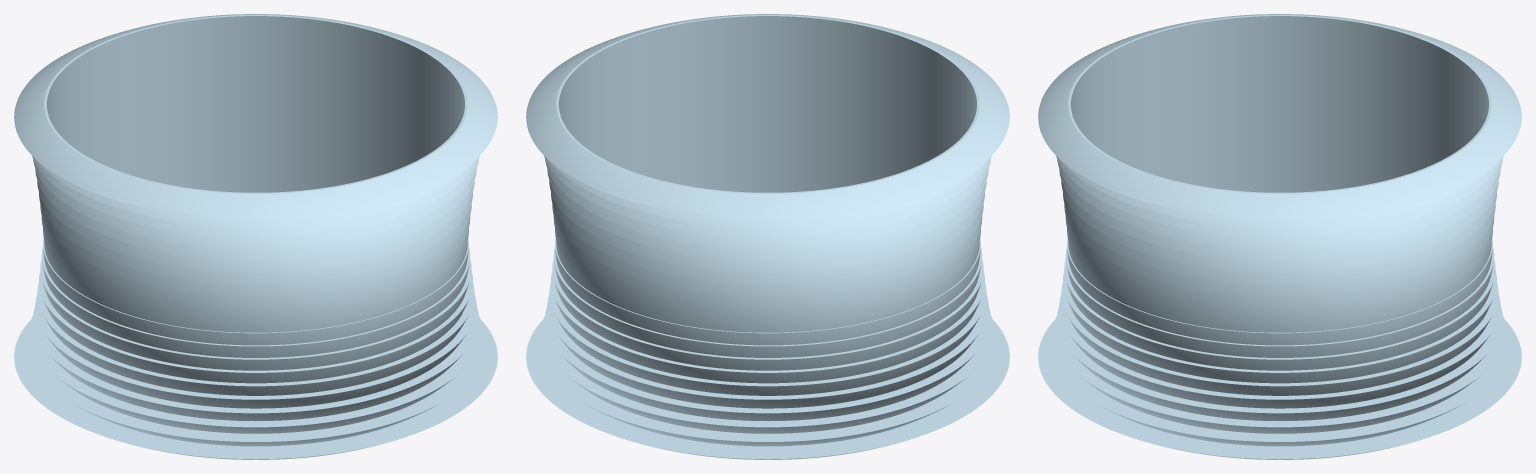
File: Fresnel2.gltf
3 views of the same model, side by side, from view 1: azimuth 30°, elevation 25°; view 2: azimuth 150°, elevation 25°; view 3: azimuth 270°, elevation 25° (orthographic).
Parts seen in each view (by area): view 1: mesh3_meshnode_3, mesh5_meshnode_5, mesh0_meshnode_0, mesh42_meshnode_42, mesh19_meshnode_19, mesh21_meshnode_21, mesh17_meshnode_17, mesh23_meshnode_23, mesh27_meshnode_27, mesh15_meshnode_15, mesh25_meshnode_25, mesh13_meshnode_13 (+20 smaller); view 2: mesh3_meshnode_3, mesh5_meshnode_5, mesh0_meshnode_0, mesh42_meshnode_42, mesh19_meshnode_19, mesh21_meshnode_21, mesh17_meshnode_17, mesh23_meshnode_23, mesh27_meshnode_27, mesh15_meshnode_15, mesh25_meshnode_25, mesh13_meshnode_13 (+20 smaller); view 3: mesh3_meshnode_3, mesh5_meshnode_5, mesh0_meshnode_0, mesh42_meshnode_42, mesh19_meshnode_19, mesh21_meshnode_21, mesh17_meshnode_17, mesh23_meshnode_23, mesh27_meshnode_27, mesh15_meshnode_15, mesh25_meshnode_25, mesh13_meshnode_13 (+20 smaller).
Boxes of the visible parts, x1,y1,x2,y2 form: mesh3_meshnode_3: (47, 16, 464, 192); mesh5_meshnode_5: (14, 14, 497, 219); mesh0_meshnode_0: (14, 319, 497, 459); mesh42_meshnode_42: (24, 322, 487, 441); mesh19_meshnode_19: (40, 204, 471, 296); mesh21_meshnode_21: (41, 216, 470, 308); mesh17_meshnode_17: (39, 192, 472, 284); mesh23_meshnode_23: (43, 228, 468, 320); mesh27_meshnode_27: (43, 249, 468, 345); mesh15_meshnode_15: (37, 181, 474, 272); mesh25_meshnode_25: (44, 241, 467, 332); mesh13_meshnode_13: (35, 169, 476, 260); mesh3_meshnode_3: (559, 16, 976, 192); mesh5_meshnode_5: (526, 14, 1009, 219); mesh0_meshnode_0: (526, 319, 1009, 459); mesh42_meshnode_42: (536, 322, 999, 441); mesh19_meshnode_19: (552, 204, 983, 296); mesh21_meshnode_21: (553, 216, 982, 308); mesh17_meshnode_17: (551, 192, 984, 284); mesh23_meshnode_23: (555, 228, 980, 320); mesh27_meshnode_27: (555, 249, 980, 345); mesh15_meshnode_15: (549, 181, 986, 272); mesh25_meshnode_25: (556, 241, 979, 332); mesh13_meshnode_13: (547, 169, 988, 260); mesh3_meshnode_3: (1071, 16, 1488, 192); mesh5_meshnode_5: (1038, 14, 1521, 219); mesh0_meshnode_0: (1038, 319, 1521, 459); mesh42_meshnode_42: (1048, 322, 1511, 441); mesh19_meshnode_19: (1064, 204, 1495, 296); mesh21_meshnode_21: (1065, 216, 1494, 308); mesh17_meshnode_17: (1063, 192, 1496, 284); mesh23_meshnode_23: (1067, 228, 1492, 320); mesh27_meshnode_27: (1067, 249, 1492, 345); mesh15_meshnode_15: (1061, 181, 1498, 272); mesh25_meshnode_25: (1068, 241, 1491, 332); mesh13_meshnode_13: (1059, 169, 1500, 260).
Bounding box in the file's own units: 0.7427 × 0.4492 × 0.7427.
